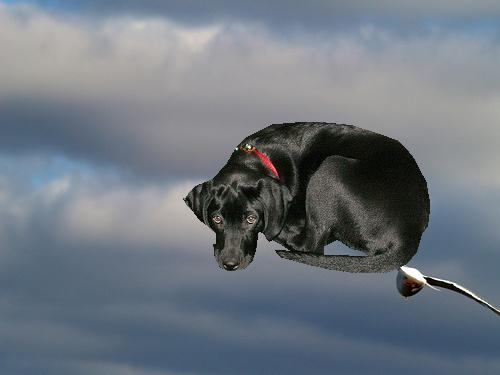tampered: (184, 123, 430, 273)
